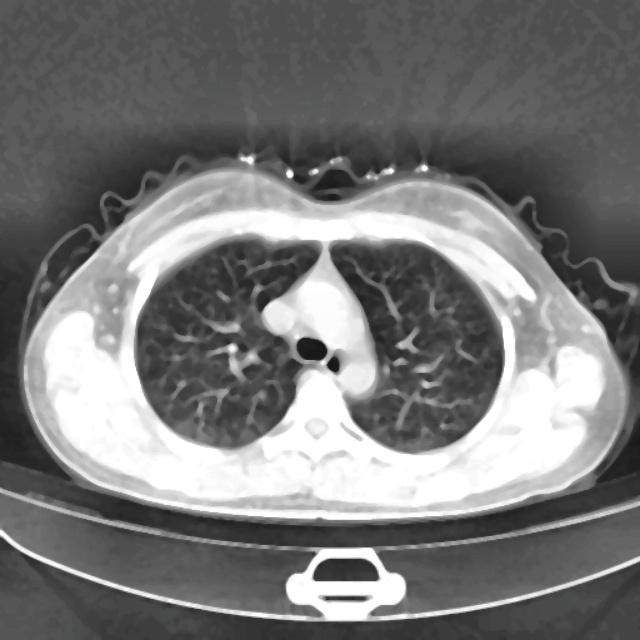covid: (18, 151, 633, 524)
